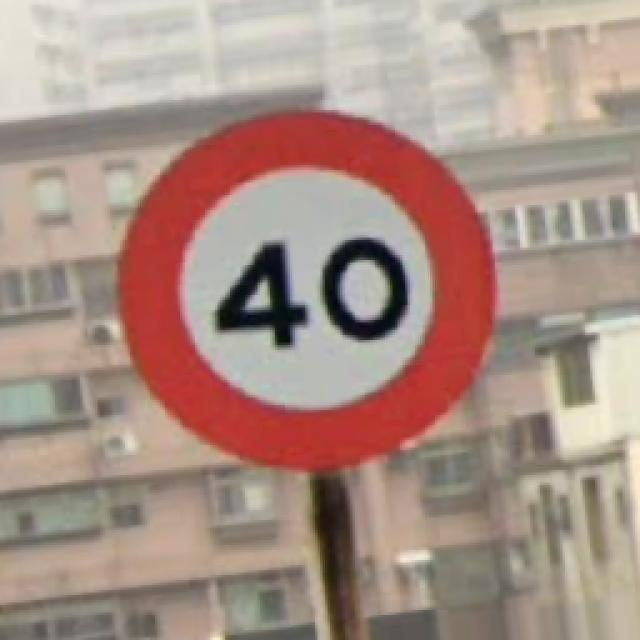Speed Limit -40-: (120, 112, 495, 470)
